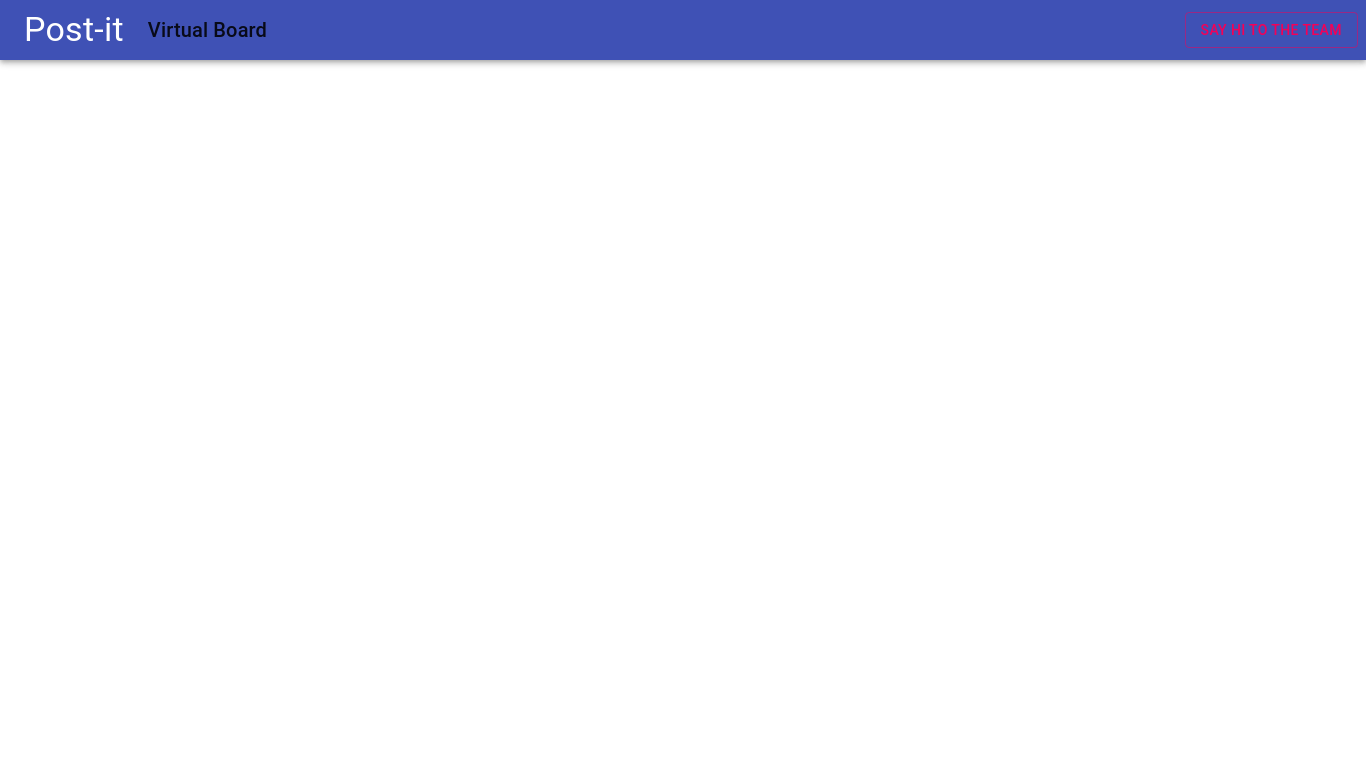
Test case: Render Modal for Say hi button clicked
The image size is (1366, 768).
Step 1. Click the button "Say hi to the team" → (1271, 30), box [1184,12,1358,48]
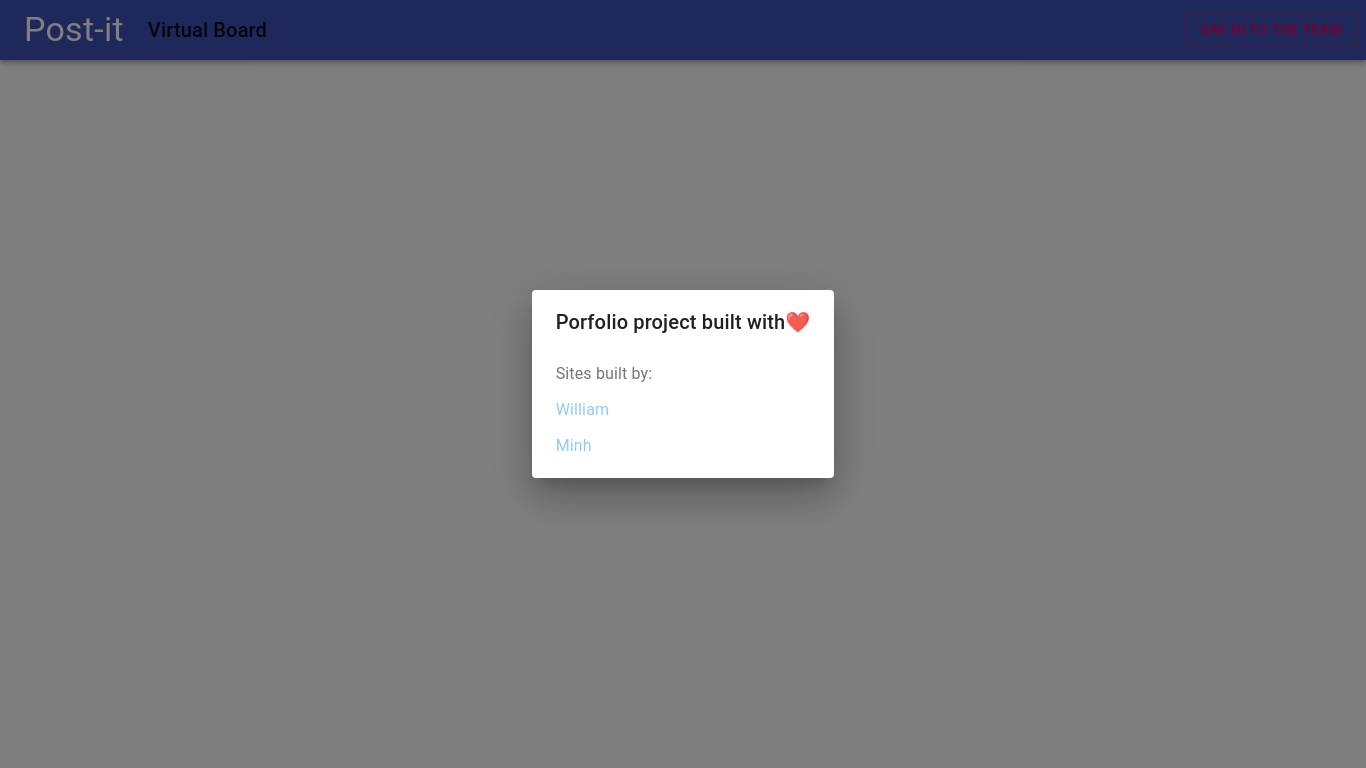
Check: the link "Minh" is shown, box [556,436,592,455]
